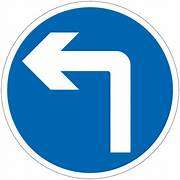left: (3, 1, 180, 179)
